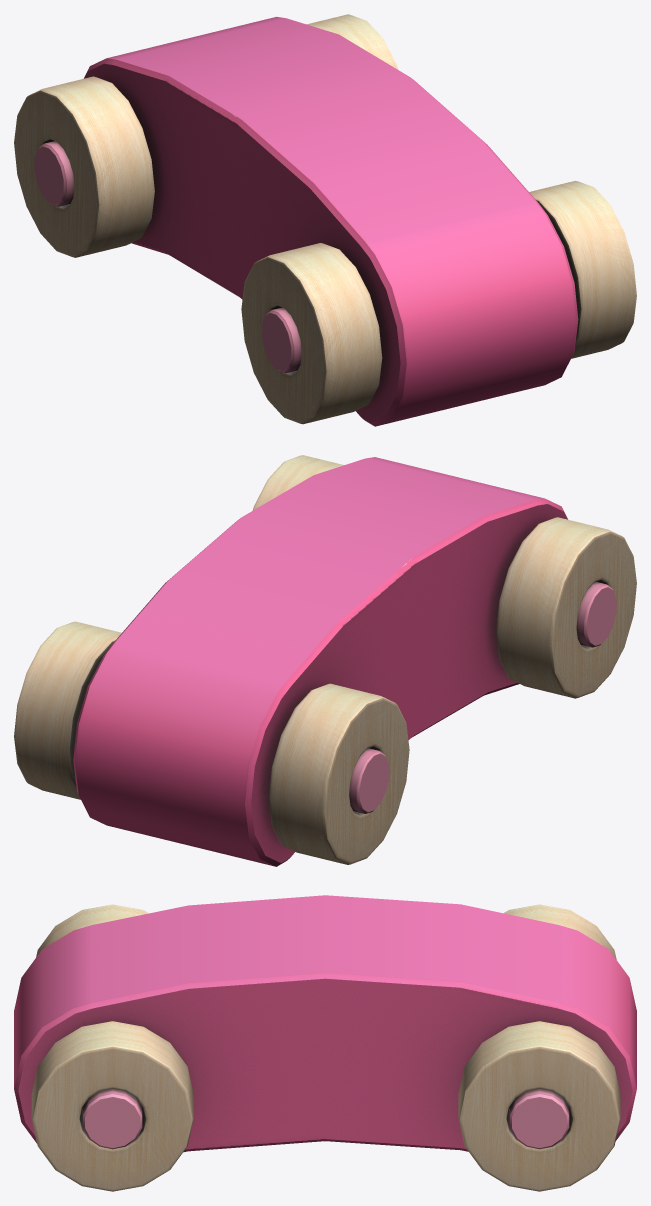
The model's file is pinkcar.fbx.
3 views of the same model, one above another, from view 1: azimuth 30°, elevation 25°; view 2: azimuth 150°, elevation 25°; view 3: azimuth 270°, elevation 25° (orthographic). The views are drawn at different scales.
Visible parts, largest first — view 1: pCylinder5, pCylinder8, pCylinder6, pCylinder7, pCylinder9; view 2: pCylinder5, pCylinder6, pCylinder8, pCylinder9, pCylinder7; view 3: pCylinder5, pCylinder6, pCylinder8, pCylinder9, pCylinder7.
Boxes of the visible parts, x1,y1,x2,y2 form: pCylinder5: (84,16,578,426); pCylinder8: (241,180,636,424); pCylinder6: (14,14,398,257); pCylinder7: (34,141,74,206); pCylinder9: (262,307,301,373); pCylinder5: (73,457,567,866); pCylinder6: (14,621,409,864); pCylinder8: (252,455,636,698); pCylinder9: (576,582,616,647); pCylinder7: (349,748,388,813); pCylinder5: (14,895,636,1152); pCylinder6: (458,904,620,1191); pCylinder8: (31,904,193,1191); pCylinder9: (83,1089,142,1149); pCylinder7: (510,1089,569,1149).
Size of the model in its own units: 4.34 by 2.69 by 7.67.
